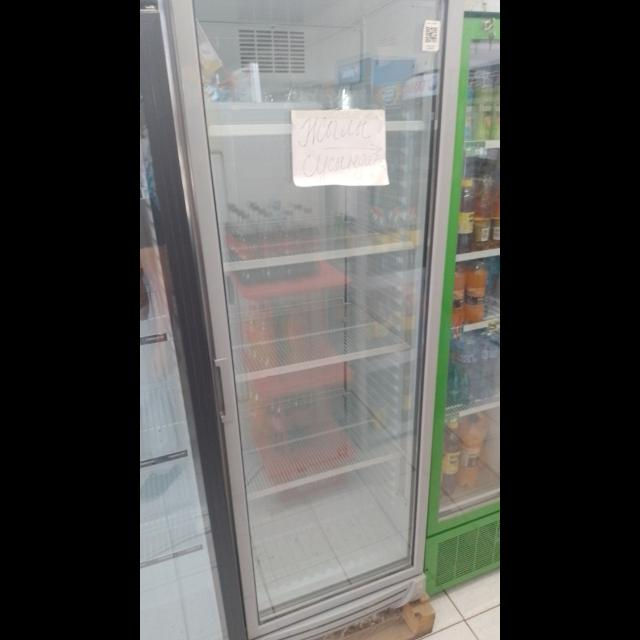Cooling-Display: (165, 1, 463, 640)
